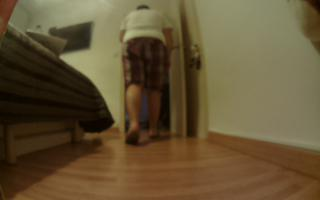person: (115, 2, 184, 155)
